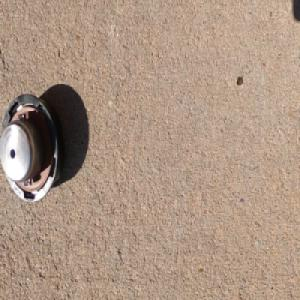FuelCap: (0, 90, 64, 206)
